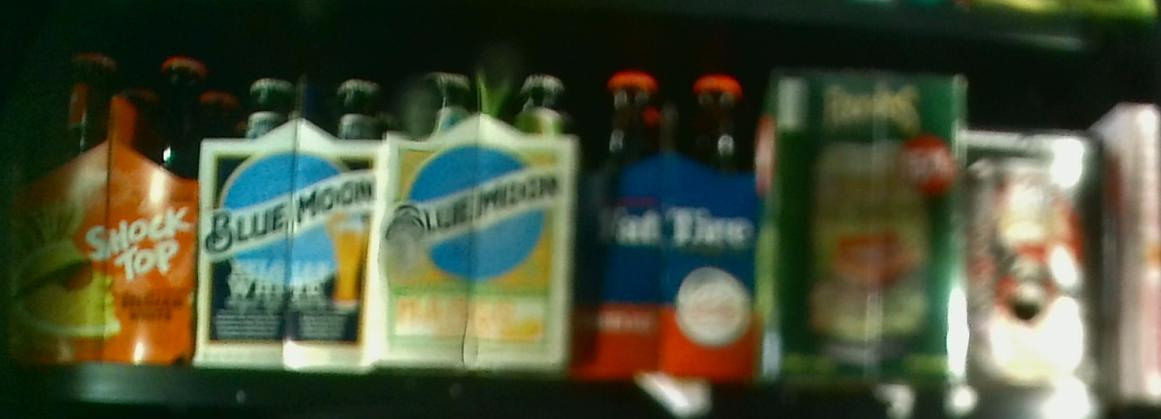bottle: (9, 44, 195, 363), (765, 66, 960, 370), (379, 72, 575, 369), (194, 62, 379, 361), (586, 70, 759, 374), (967, 128, 1102, 382)
